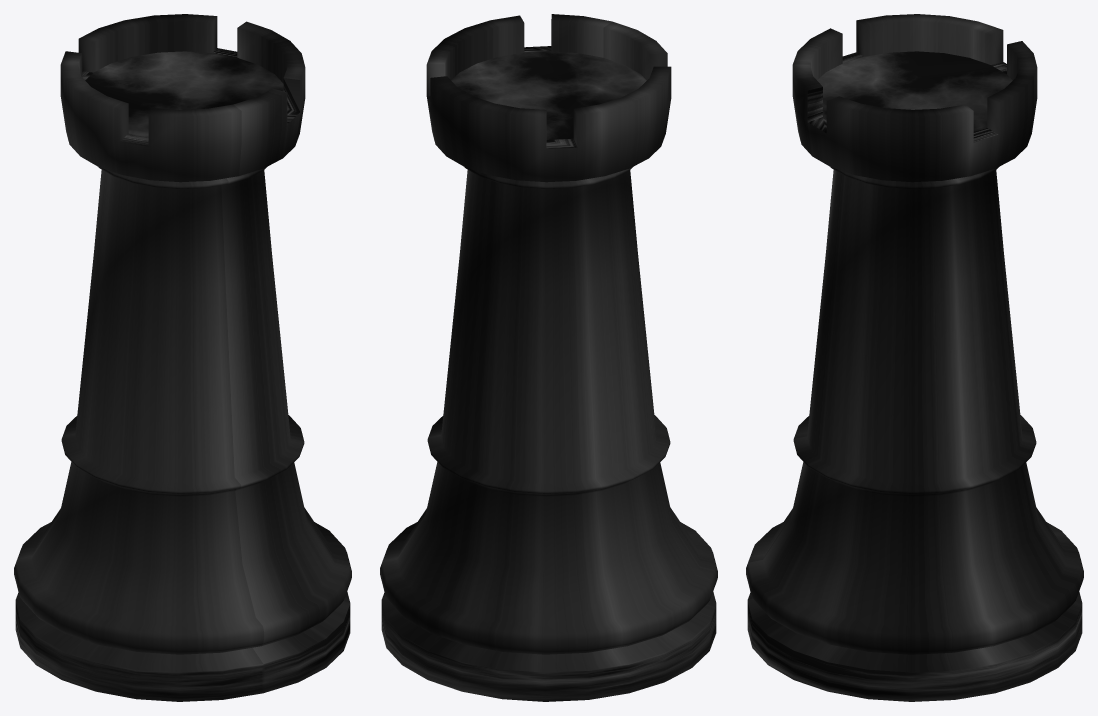
The model's file is black_rook.obj.
3 renders of one model, left to right at view 1: azimuth 30°, elevation 25°; view 2: azimuth 150°, elevation 25°; view 3: azimuth 270°, elevation 25°, orthographic.
Parts seen in each view (by area): view 1: Rook.001_Cylinder.001; view 2: Rook.001_Cylinder.001; view 3: Rook.001_Cylinder.001.
Boxes of the visible parts, x1,y1,x2,y2 form: Rook.001_Cylinder.001: [14, 14, 351, 701]; Rook.001_Cylinder.001: [380, 14, 717, 701]; Rook.001_Cylinder.001: [746, 14, 1083, 701].
Bounding box in the file's own units: 1.51 × 2.79 × 1.51.
Materials: 1 (1 with a texture image).
